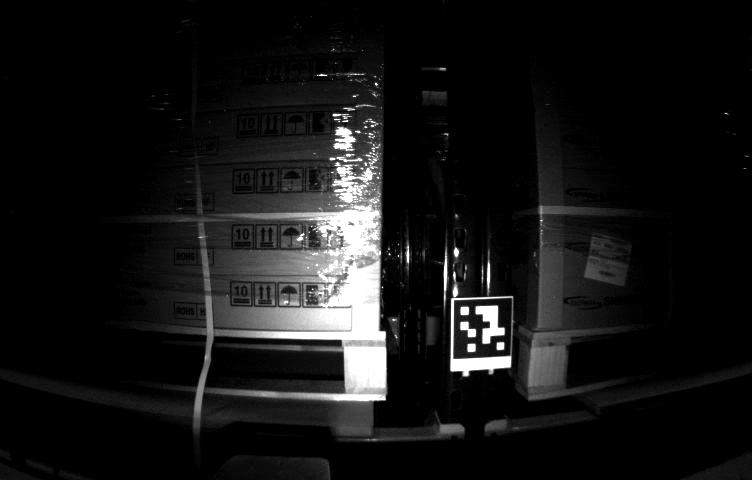True Barcode: (582, 231, 637, 288)
